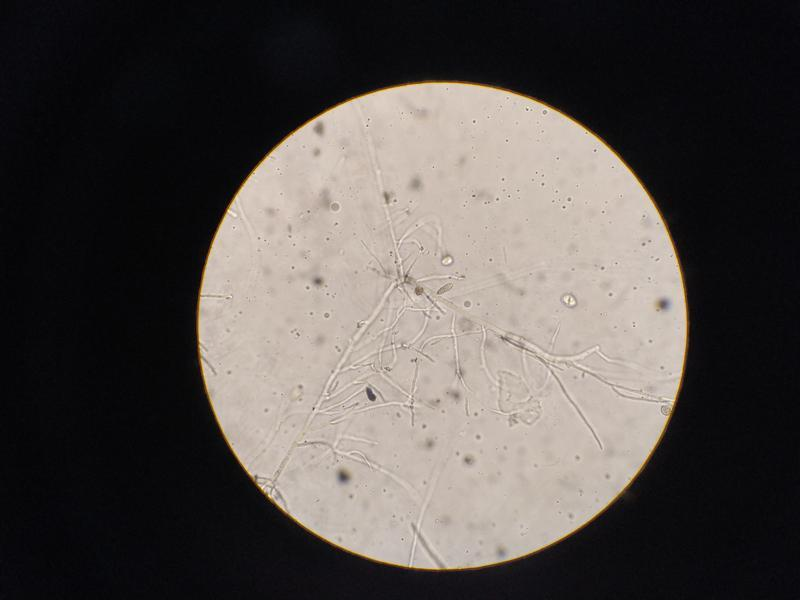fungus: (308, 213, 565, 484)
